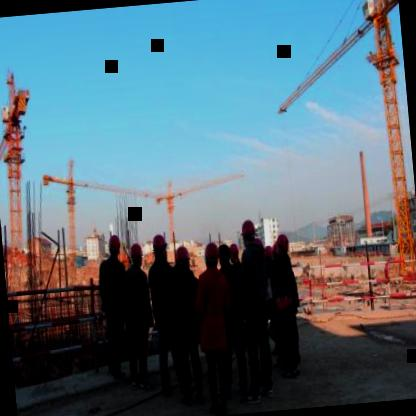helmet: (202, 240, 223, 267), (127, 240, 145, 268), (173, 244, 191, 271), (240, 219, 258, 246), (151, 235, 169, 260), (275, 233, 292, 256), (228, 241, 242, 265), (107, 234, 122, 256), (262, 242, 274, 263)
